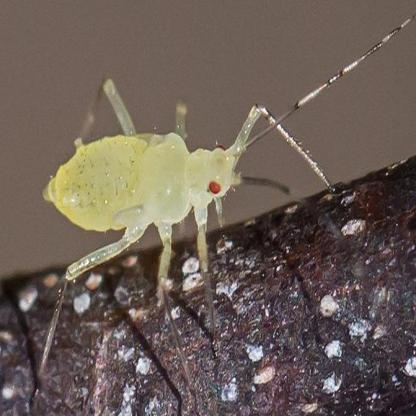aphid: (38, 20, 416, 351)
